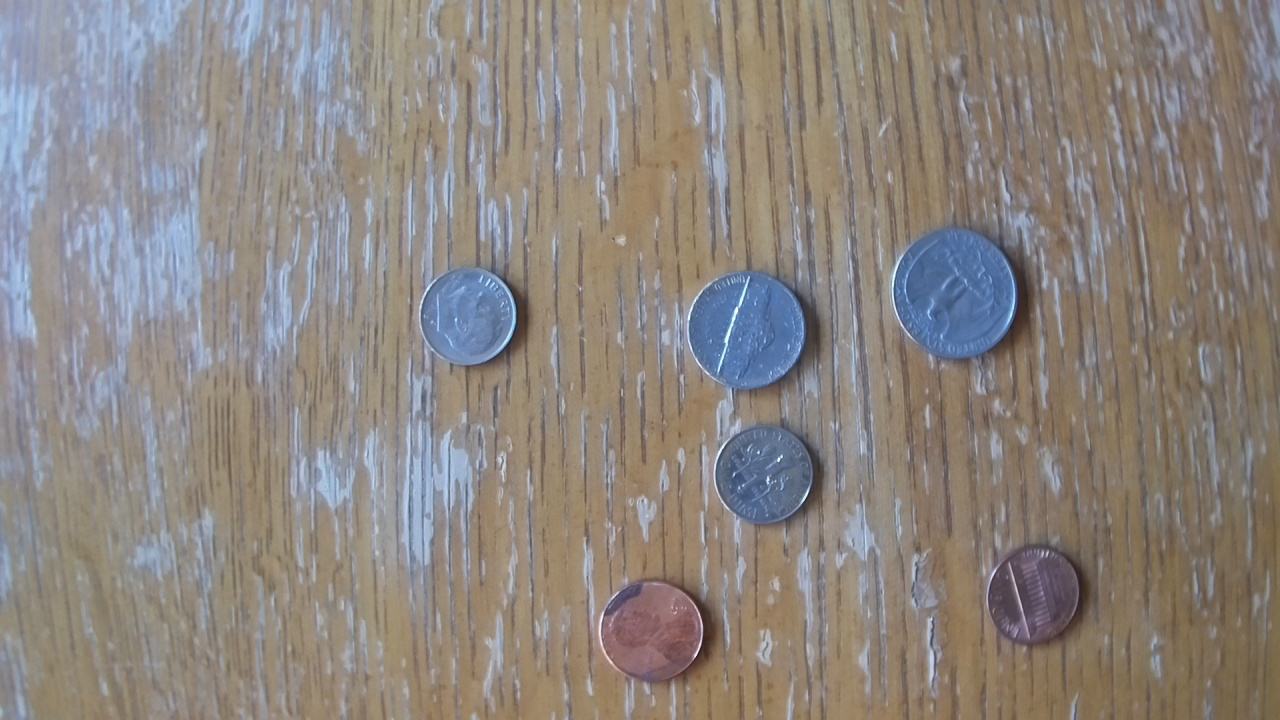dime: (417, 262, 519, 368), (711, 424, 816, 526)
nickel: (685, 268, 807, 393)
penny: (597, 579, 705, 683), (982, 542, 1081, 649)
quarter: (890, 225, 1020, 362)
